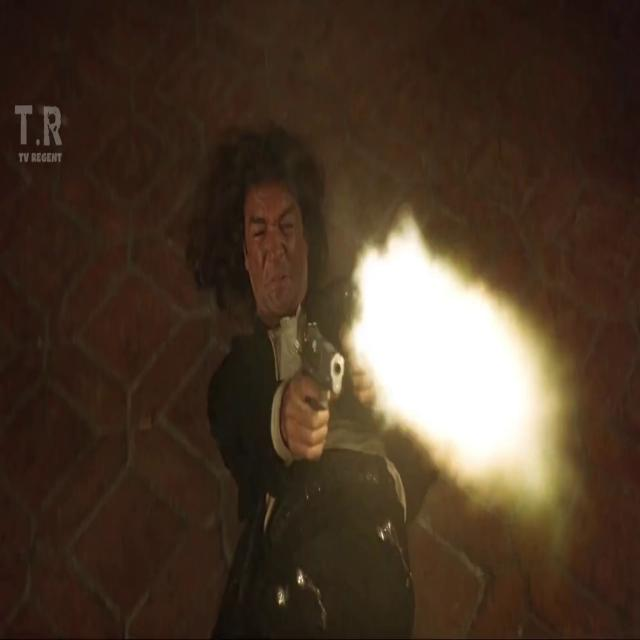handgun: (285, 302, 351, 442)
